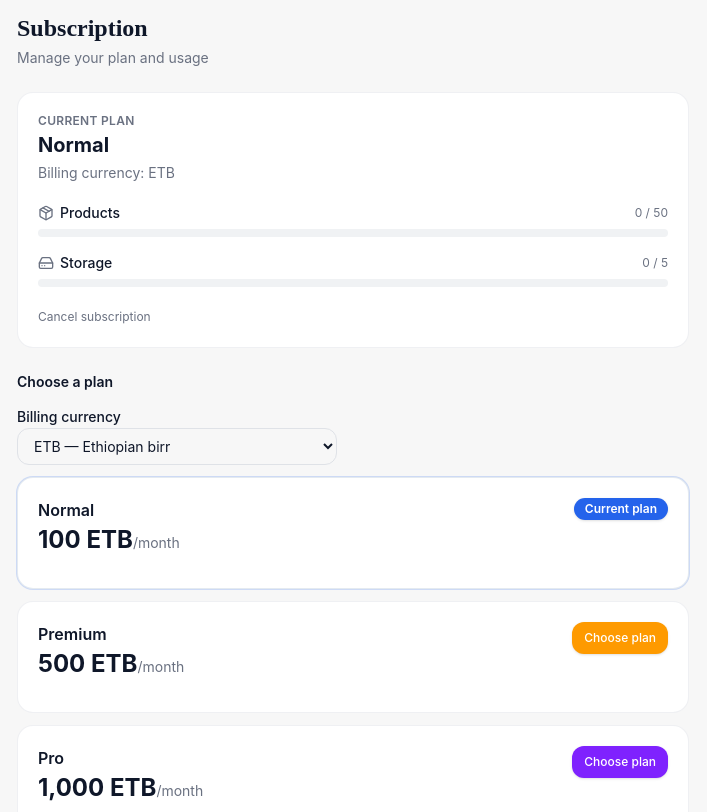
Test: business subscription billing currency › updates displayed prices when the user selects USD
expect the text "500 ETB/month" is shown: met, box [38,648,184,680]
Select "USD — US dollars" in the dropdown labelled "Billing currency" at (177, 446), box [17,428,337,465]
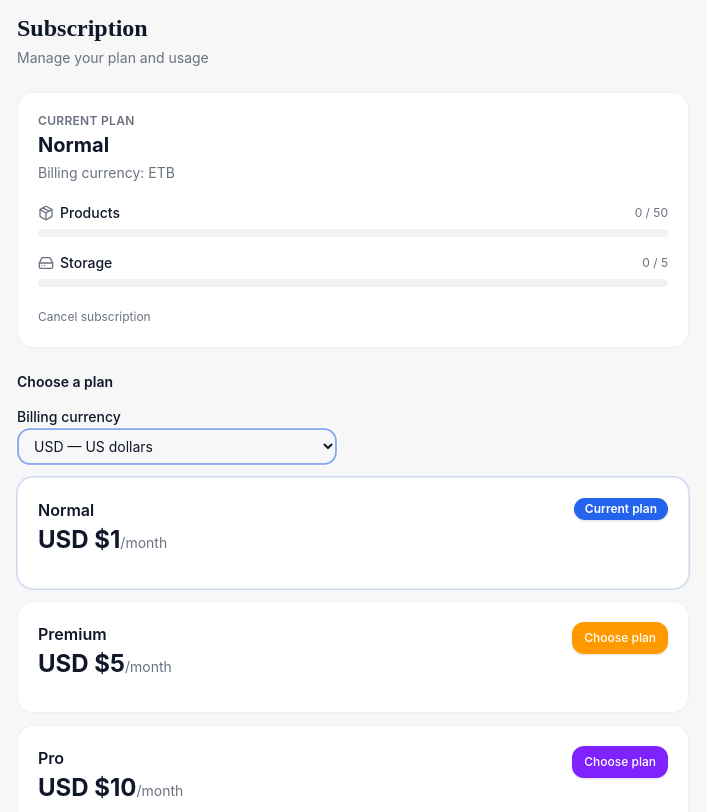
expect the text "USD $1/month" is shown: met, box [38,524,167,556]
expect the text "USD $5/month" is shown: met, box [38,648,172,680]
expect the text "USD $10/month" is shown: met, box [38,772,183,804]
